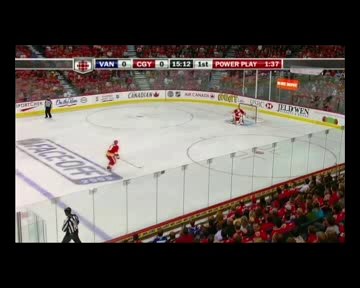normal: (96, 136, 124, 172)
